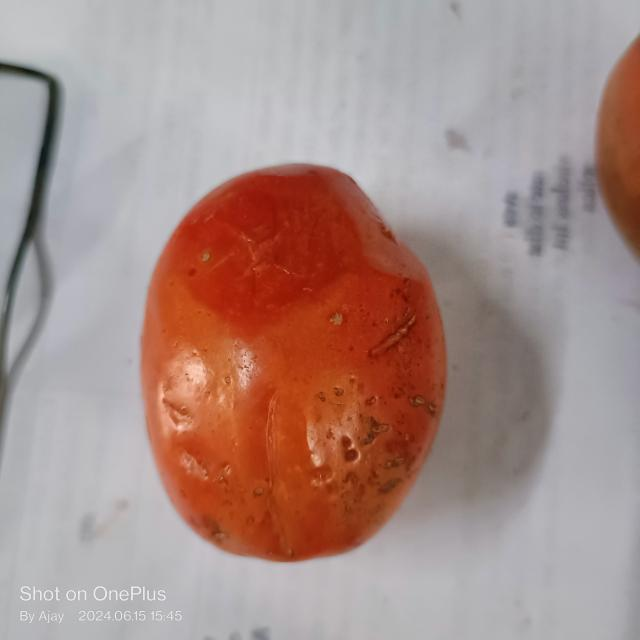Botrytis: (339, 434, 358, 462), (323, 310, 346, 327)
